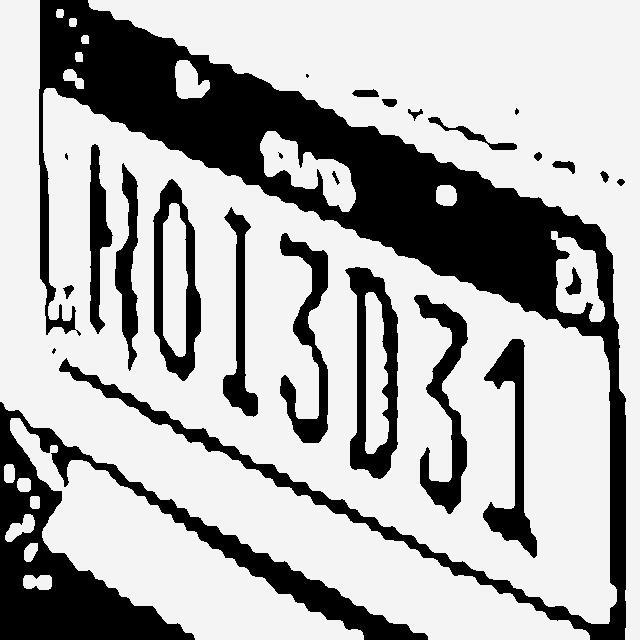0: (148, 174, 202, 386)
1: (480, 333, 540, 555)
3: (272, 233, 334, 447), (412, 291, 468, 514)
d: (344, 266, 402, 482)
i: (212, 202, 264, 420)
n: (86, 144, 144, 353)
